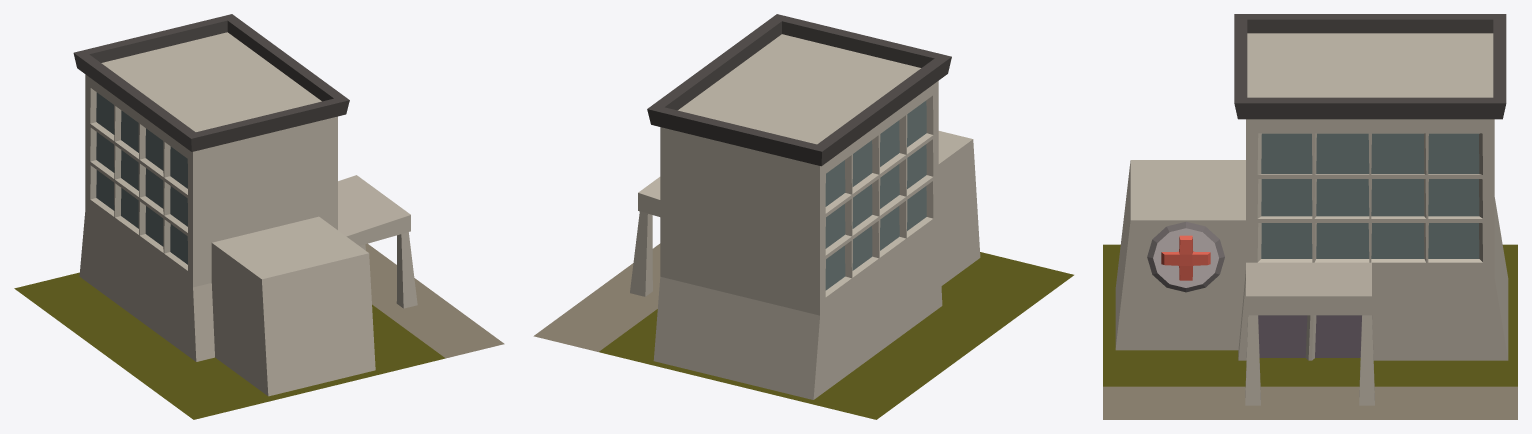
The model's file is Hospital.fbx.
3 renders of one model, left to right at view 1: azimuth 30°, elevation 25°; view 2: azimuth 150°, elevation 25°; view 3: azimuth 270°, elevation 25°, orthographic. The views are drawn at different scales.
Parts seen in each view (by area): view 1: Hospital; view 2: Hospital; view 3: Hospital.
Part boxes in pixels (x1,y1,x2,y2): Hospital: [14, 14, 504, 419]; Hospital: [533, 14, 1073, 419]; Hospital: [1103, 14, 1517, 419].
Size of the model in its own units: 200 by 139 by 200.
